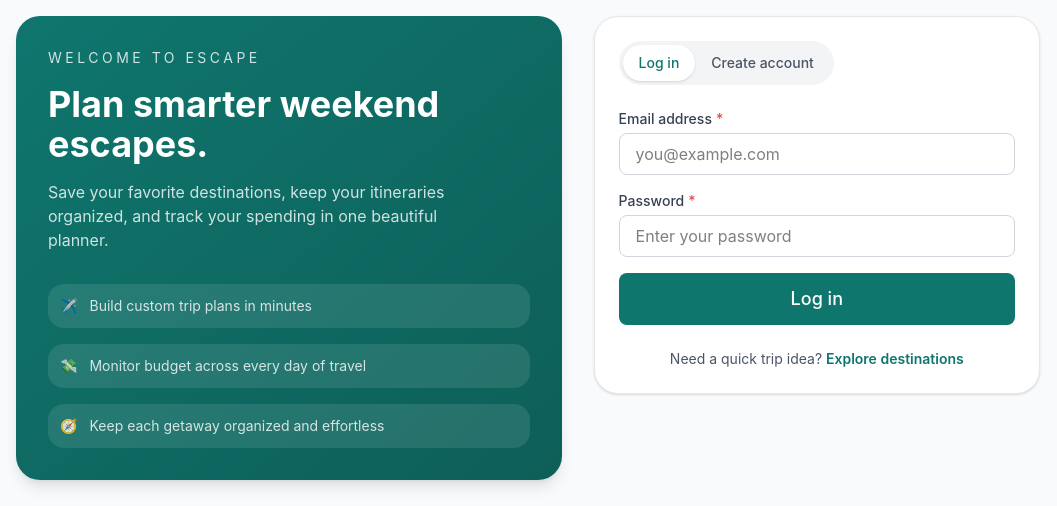
it: AuthPage › logs in an existing user with stored credentials
Type "sam@example.com" into the field labelled "Email address*" at (817, 154), box [619,133,1015,175]
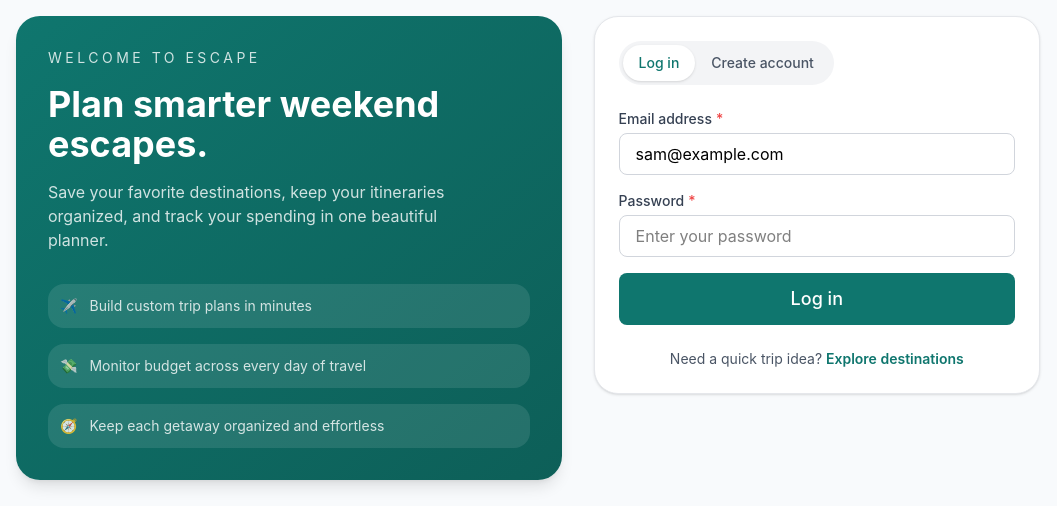
Type "secret123" into the password field labelled "Password*" at (817, 236), box [619,215,1015,257]
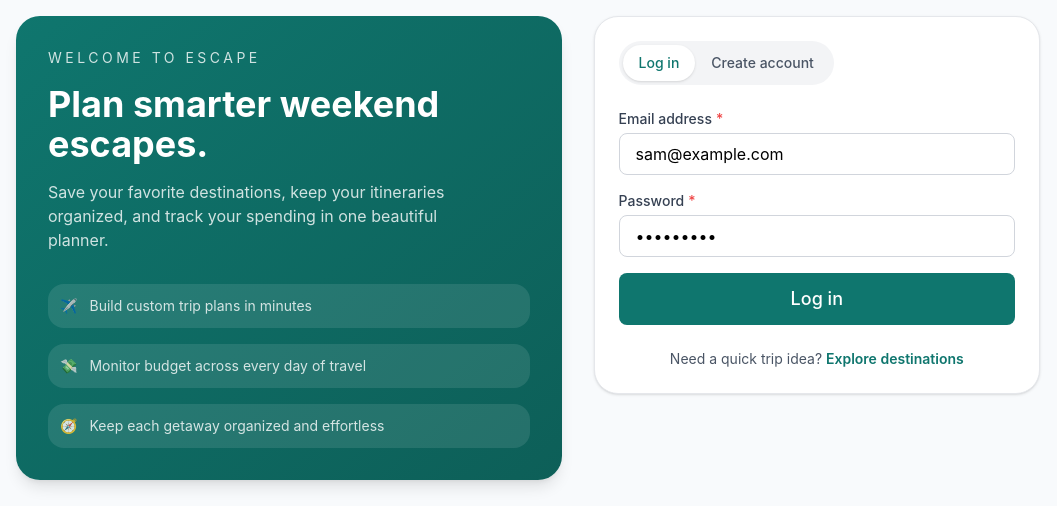
Click the button "Log in" below "Password" at (817, 299), box [619,273,1015,325]
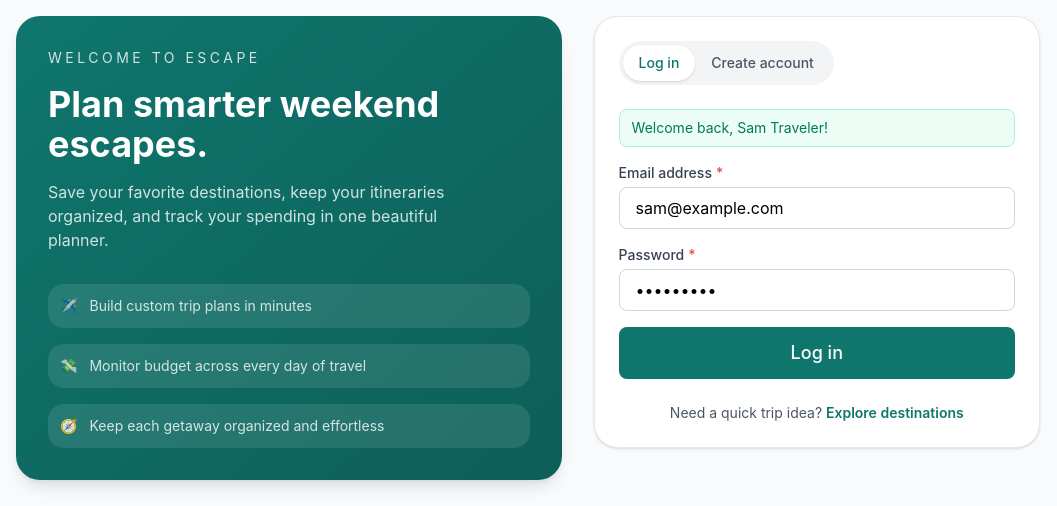
Check: the text "Welcome back, Sam Traveler!" is shown, box [619,109,1015,147]
